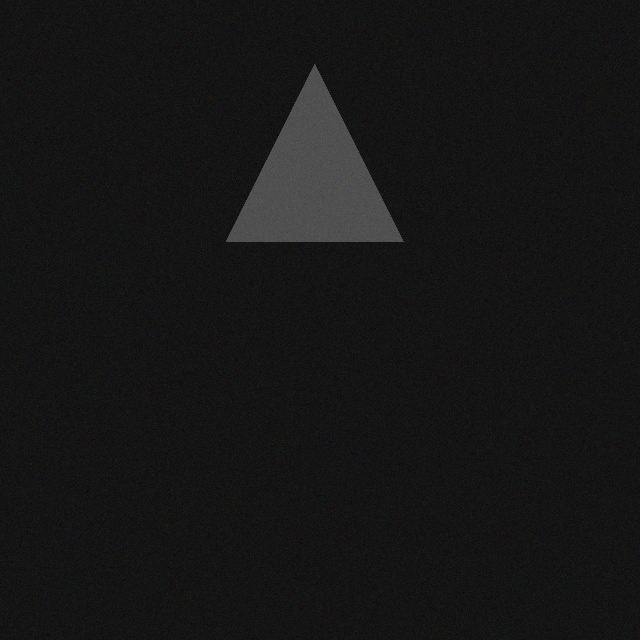triangle: (212, 72, 389, 249)
